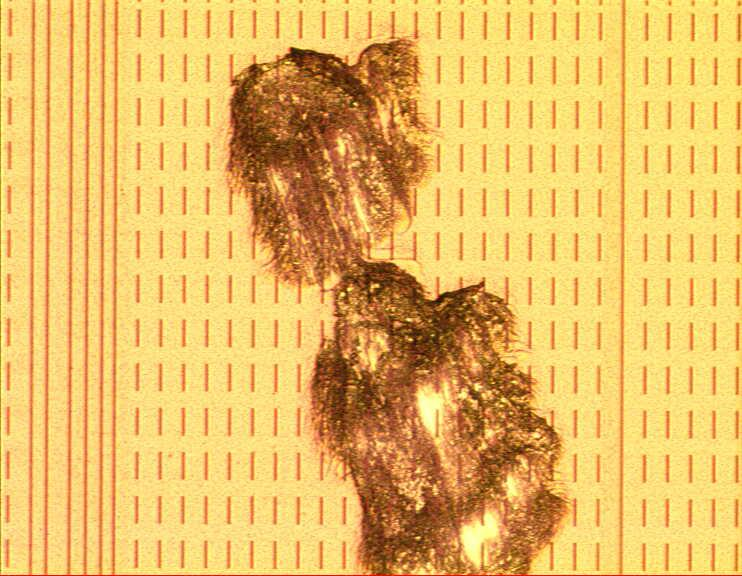SCRATCH: (219, 37, 570, 576)
